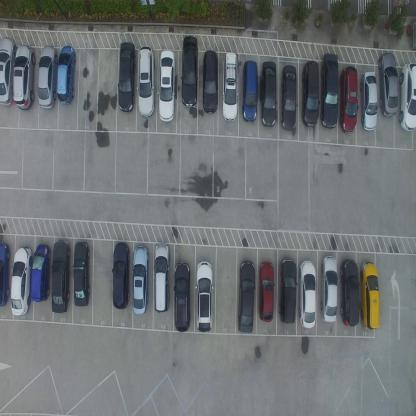car: (10, 244, 32, 315), (51, 237, 71, 315), (13, 44, 35, 111), (193, 259, 212, 334), (321, 50, 339, 129), (180, 34, 199, 108), (158, 48, 177, 122), (237, 260, 256, 334), (360, 260, 380, 330), (118, 41, 137, 114), (130, 242, 149, 315), (377, 50, 398, 116), (110, 240, 130, 309), (340, 258, 360, 326), (137, 44, 155, 118), (152, 240, 170, 314), (172, 260, 190, 332), (38, 46, 58, 110), (221, 50, 239, 121), (398, 61, 416, 132), (298, 259, 316, 330), (280, 62, 298, 132), (302, 57, 320, 127), (320, 254, 338, 324), (260, 58, 278, 127), (30, 243, 51, 301), (340, 66, 358, 133), (56, 44, 76, 104), (72, 241, 90, 307), (279, 258, 297, 324), (241, 58, 259, 122), (0, 36, 16, 107), (360, 70, 378, 132), (202, 48, 218, 114), (258, 260, 274, 322), (0, 240, 11, 309)
